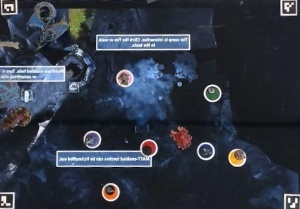blue: (197, 138, 217, 161)
green: (202, 82, 223, 102)
orange: (98, 182, 123, 203)
pink: (113, 67, 137, 88)
red: (138, 136, 162, 159)
violet: (82, 128, 101, 150)
yellow: (228, 145, 249, 168)
